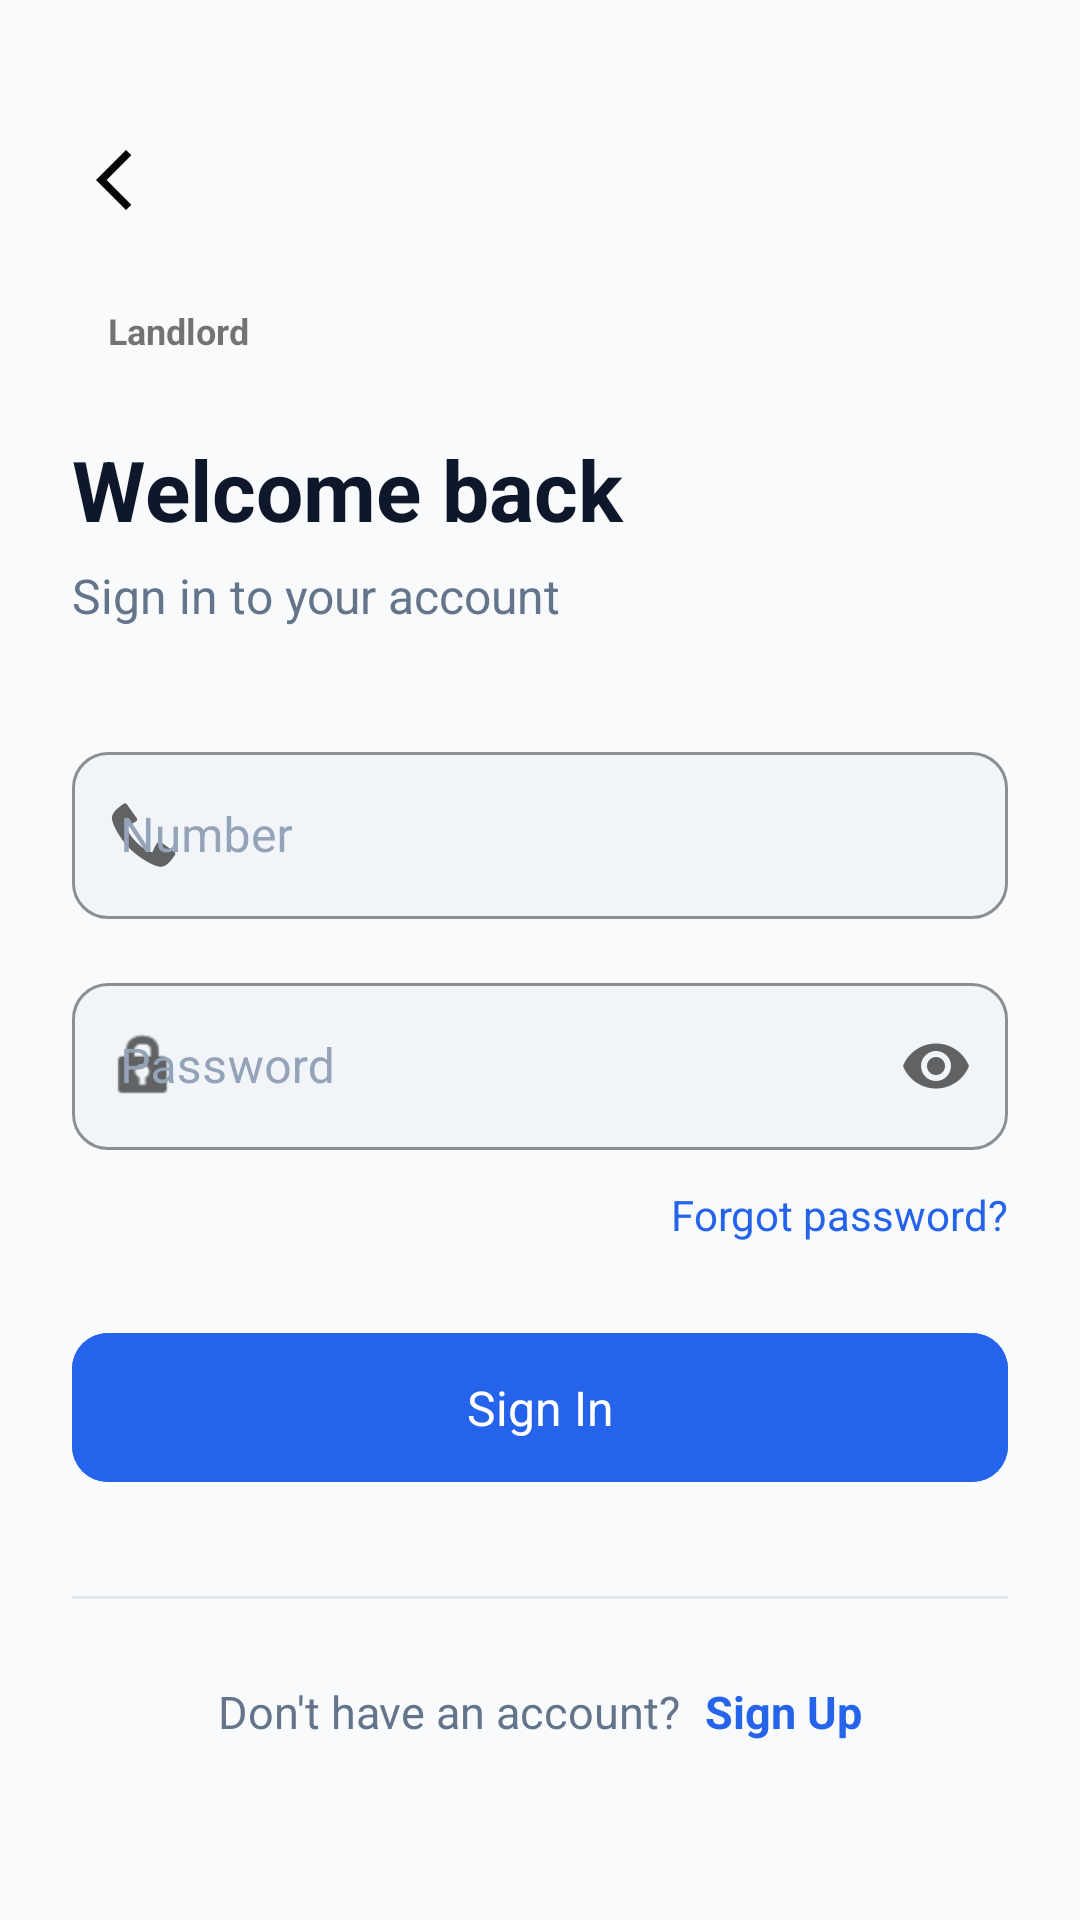

Where to tap for icons on this 1080px x 1920px app screen, as (x=x, y=y):
Back: (x=113, y=180)
